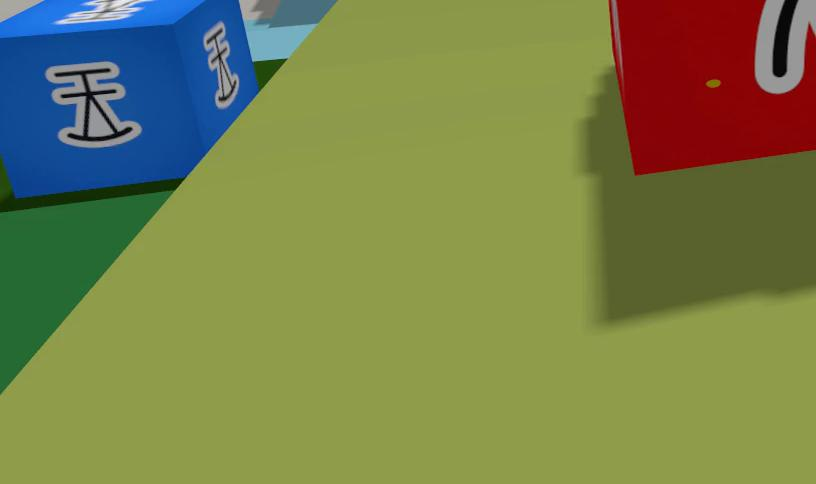KFS_FAKE: (609, 0, 815, 174), (754, 0, 815, 93)
KFS_REAL: (0, 0, 257, 197), (45, 62, 140, 147), (203, 23, 239, 108), (56, 0, 156, 24)
